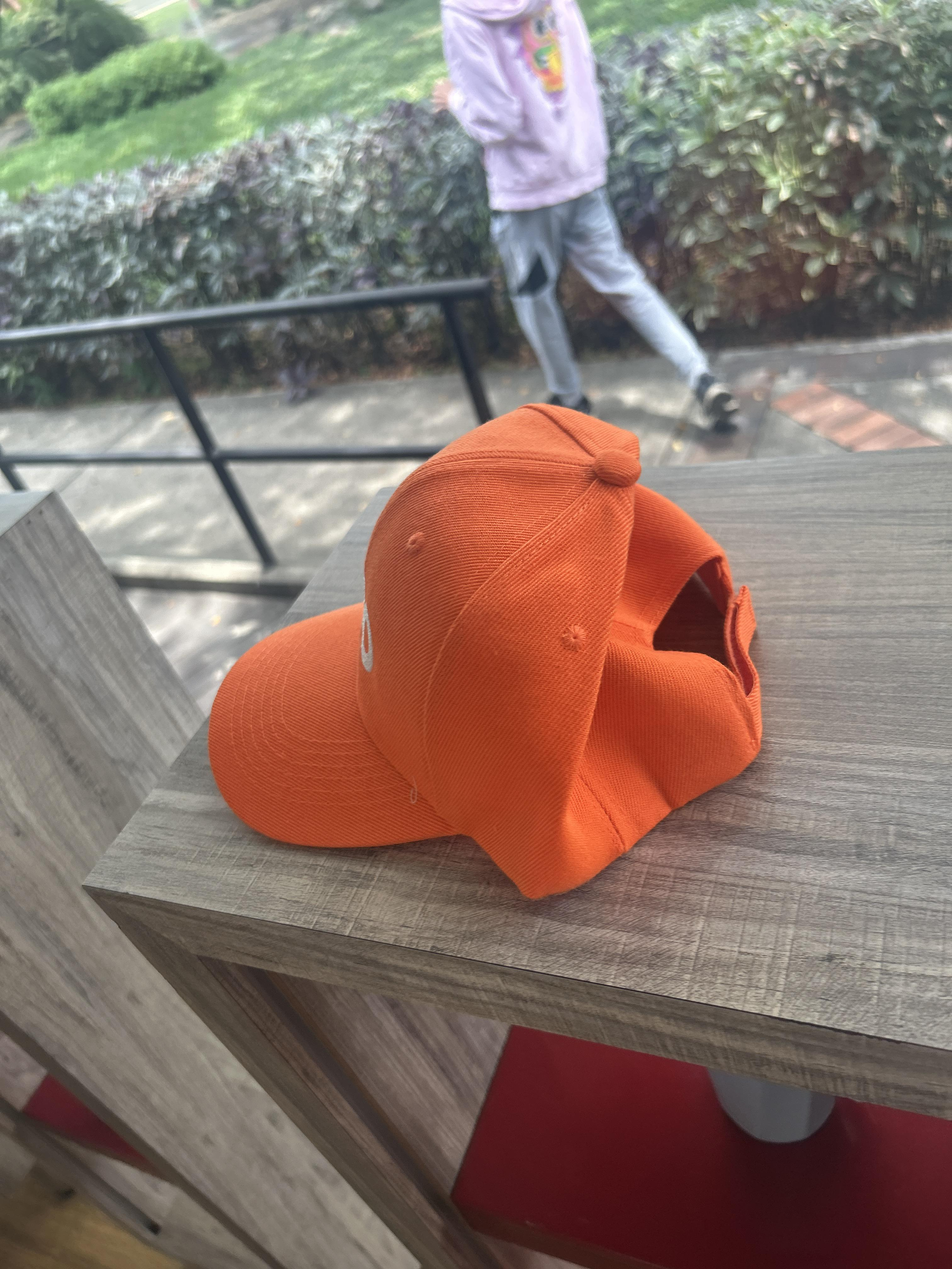gorra: (208, 403, 762, 898), (208, 405, 761, 898)
